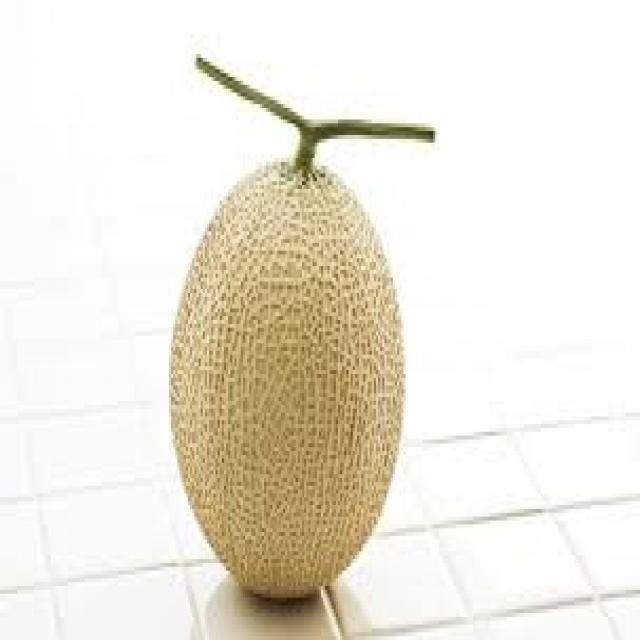melon: (165, 158, 410, 609)
